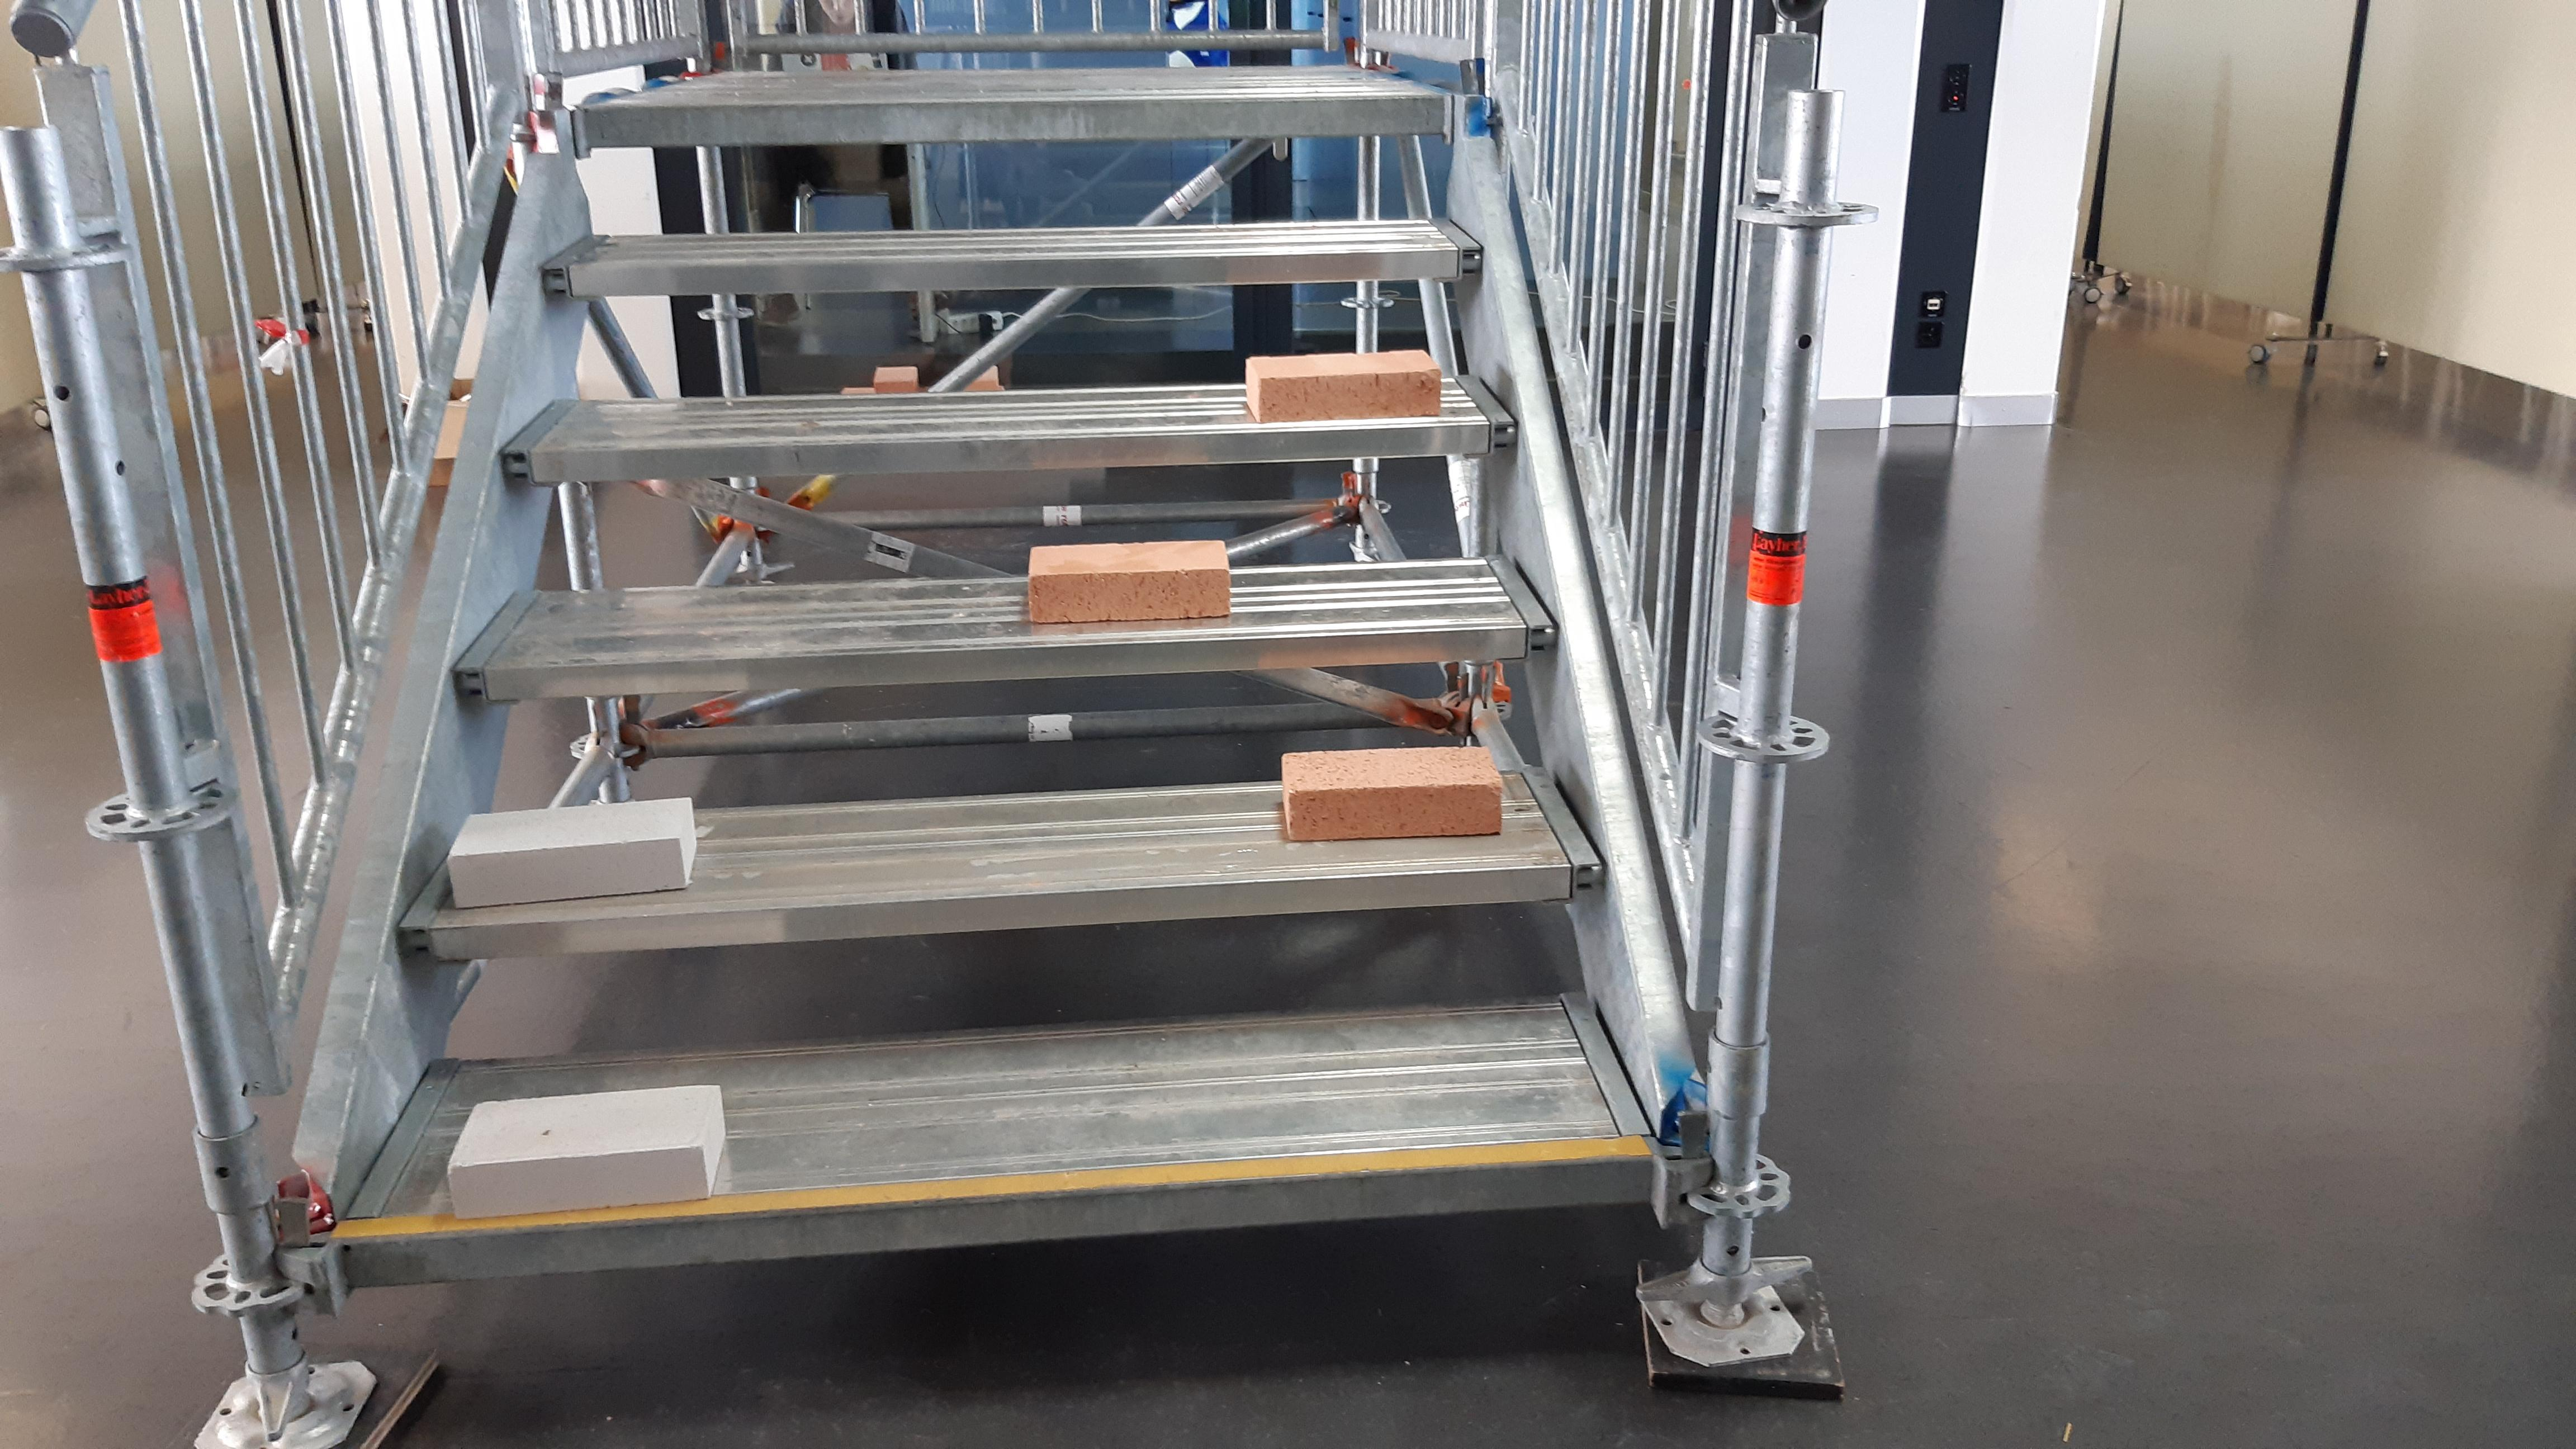brick: (446, 1083, 724, 1214), (449, 798, 690, 902), (1279, 750, 1499, 837), (1028, 541, 1228, 623), (1242, 352, 1438, 419)
edge: (341, 1143, 1652, 1283), (398, 865, 1596, 959), (458, 625, 1552, 695), (502, 421, 1518, 481), (543, 246, 1481, 295), (577, 88, 1449, 142)
stairs: (11, 4, 1849, 1449)
steps: (338, 78, 1663, 1295)
